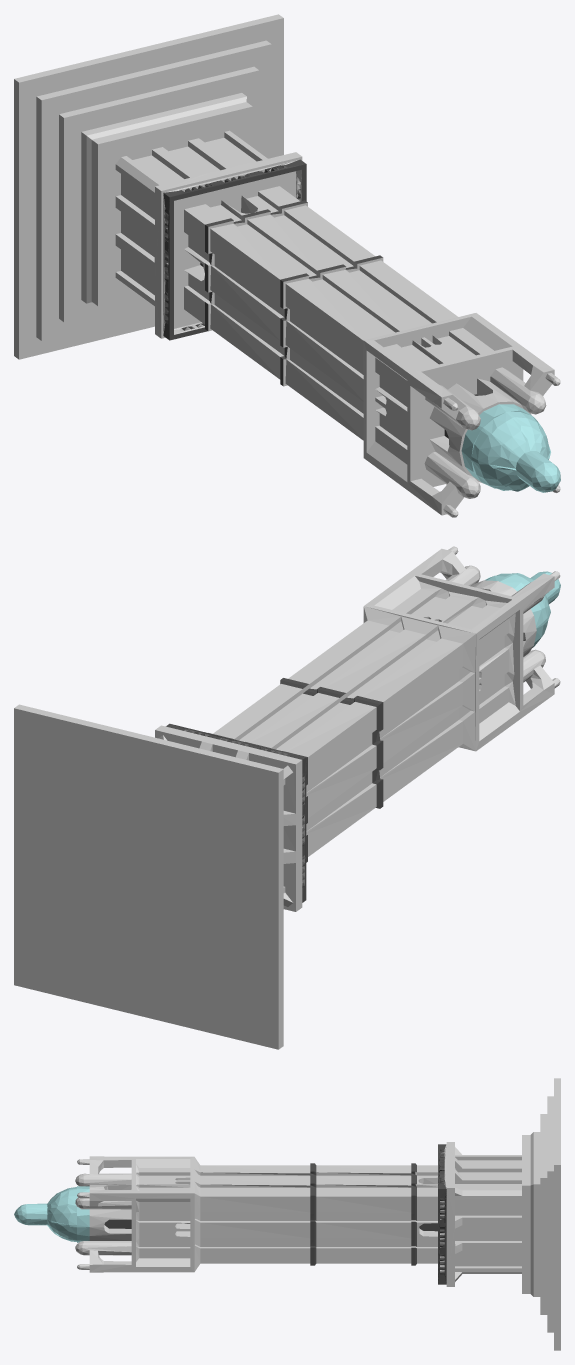
The model's file is queens.glb.
3 renders of one model, top to bottom at view 1: azimuth 30°, elevation 25°; view 2: azimuth 150°, elevation 25°; view 3: azimuth 270°, elevation 25°, orthographic. The views are drawn at different scales.
Parts seen in each view (by area): view 1: building; view 2: building; view 3: building.
Part boxes in pixels (left/top/right/bottom): building: left=14, top=14, right=560, bottom=517; building: left=14, top=546, right=560, bottom=1049; building: left=14, top=1078, right=560, bottom=1350.
Size of what is drawn, in the model's own units: 1.06 by 1.06 by 2.83.
